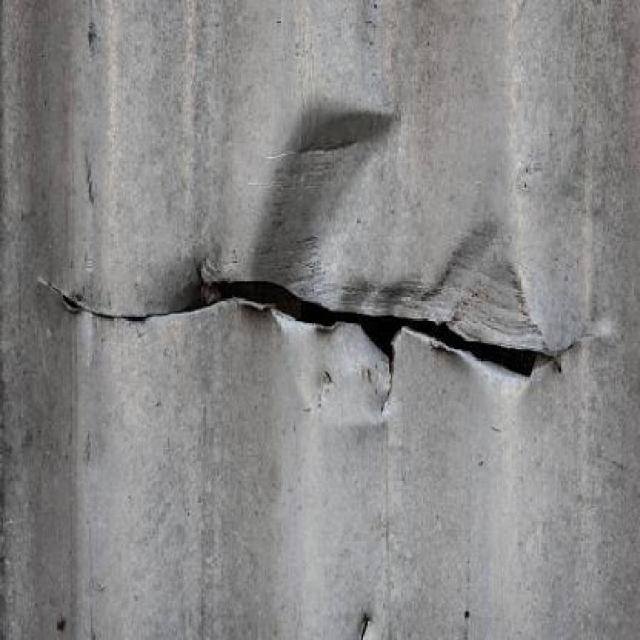crack: (29, 260, 580, 419)
dent: (253, 93, 406, 280)
